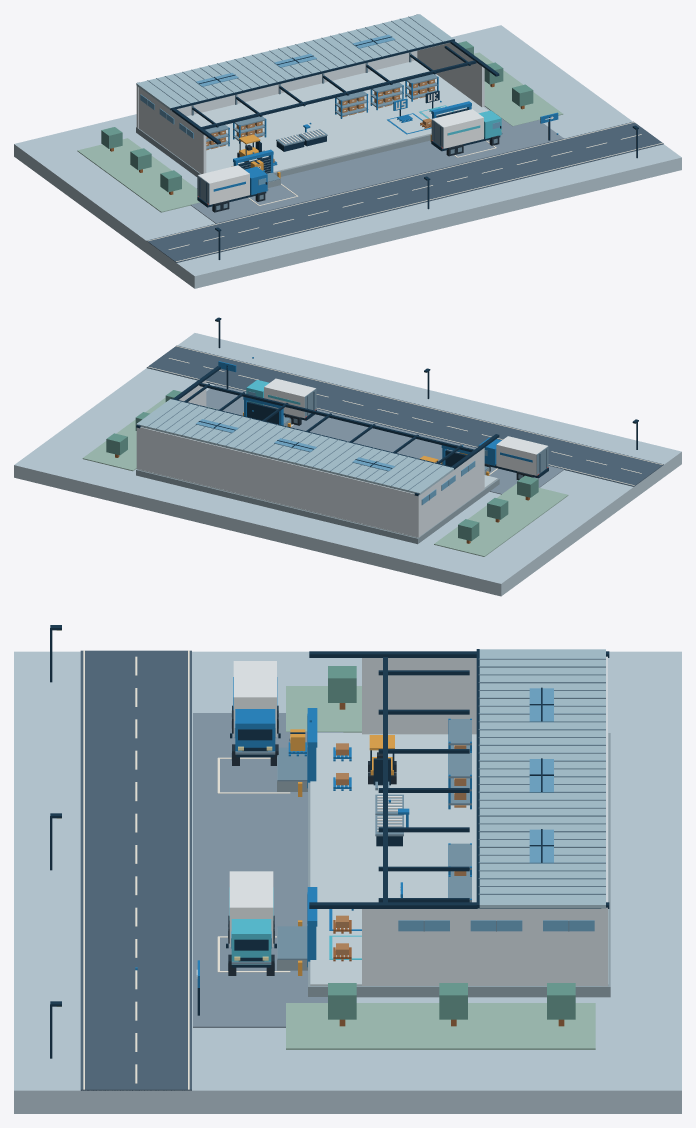
The model's file is warehouse.glb.
The picture shows the model from 3 angles, top to bottom: view 1: azimuth 30°, elevation 25°; view 2: azimuth 150°, elevation 25°; view 3: azimuth 270°, elevation 25°; orthographic projection. The views are drawn at different scales.
Visible parts, largest first — view 1: warehouse_site, outbound_truck, receiving_truck; view 2: warehouse_site, receiving_truck, outbound_truck; view 3: warehouse_site, outbound_truck, receiving_truck, forklift.
Boxes of the visible parts, left/top/right/bottom form: warehouse_site: left=14, top=14, right=681, bottom=288; outbound_truck: left=431, top=109, right=502, bottom=156; receiving_truck: left=197, top=165, right=268, bottom=212; warehouse_site: left=14, top=317, right=681, bottom=596; receiving_truck: left=478, top=436, right=548, bottom=480; outbound_truck: left=246, top=378, right=316, bottom=425; warehouse_site: left=14, top=625, right=681, bottom=1113; outbound_truck: left=226, top=871, right=276, bottom=975; receiving_truck: left=230, top=661, right=280, bottom=765; forklift: left=368, top=735, right=396, bottom=790.
Size of the model in its own units: 56 by 7.11 by 36.
